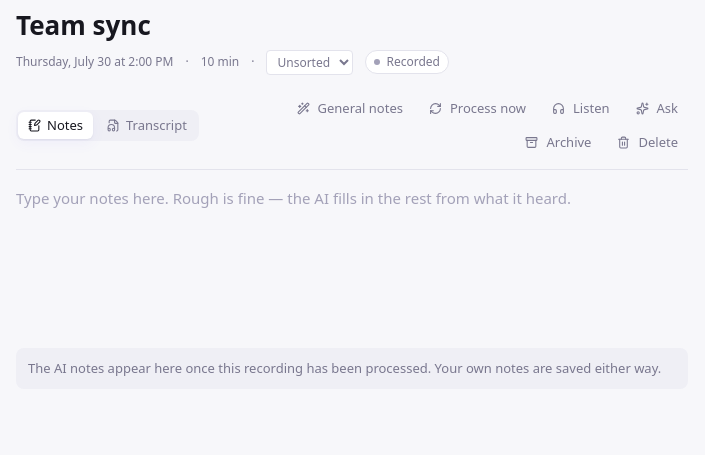
Scenario: Listen › opens on a recording that has never been processed
Click the button "Listen".
click(581, 108)  # box top-left (542, 94), bottom-right (620, 122)
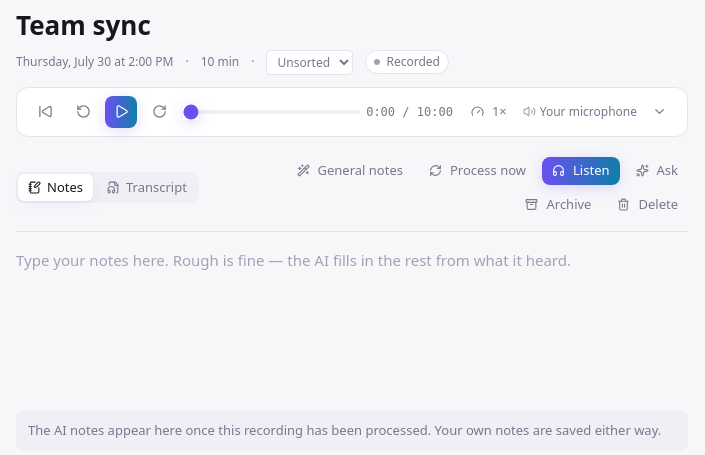
Result: the button named "Play" is shown at top-left (105, 96), bottom-right (137, 128)
